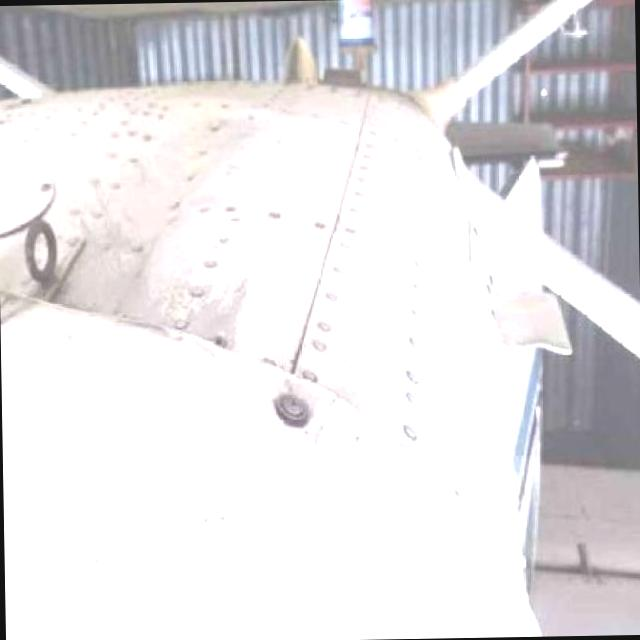dent: (248, 249, 372, 410)
